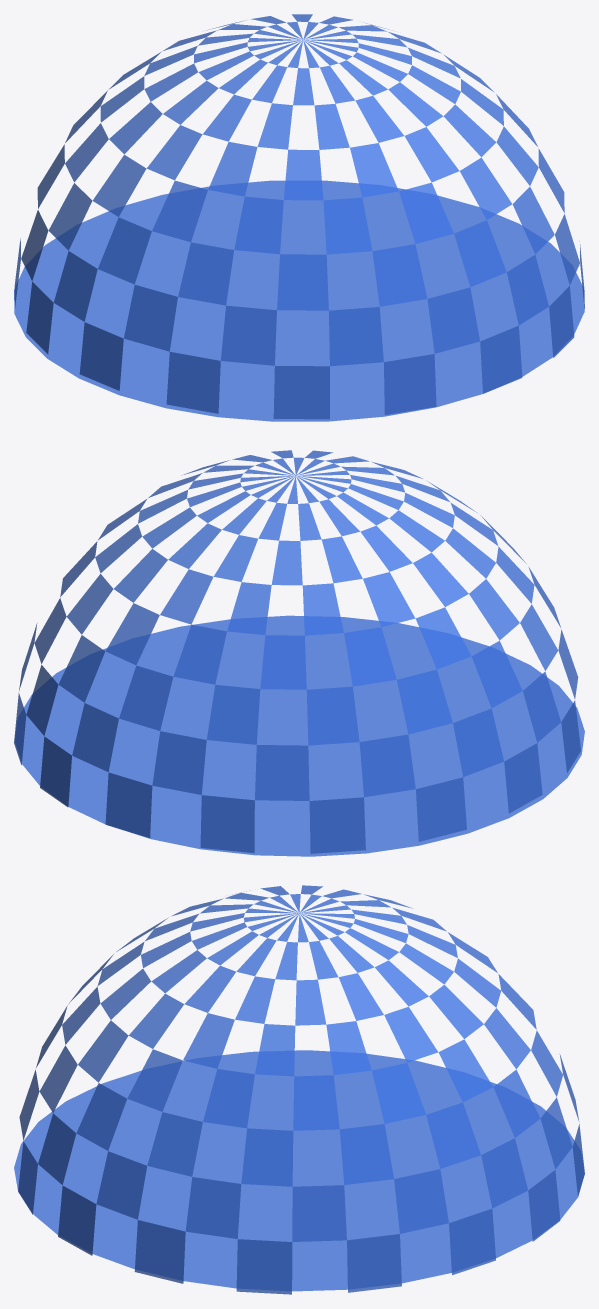
File: dome_c2.glb
3 renders of one model, top to bottom at view 1: azimuth 30°, elevation 25°; view 2: azimuth 150°, elevation 25°; view 3: azimuth 270°, elevation 25°, orthographic.
Visible parts, largest first — view 1: dome1_2; view 2: dome1_2; view 3: dome1_2.
Part boxes in pixels (<box>): dome1_2: <box>14,14,584,421</box>; dome1_2: <box>14,450,584,856</box>; dome1_2: <box>14,885,584,1294</box>.
Size of the model in its own units: 1.4 by 0.7096 by 1.4.
